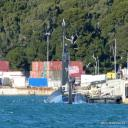submarine: (48, 20, 89, 107)
